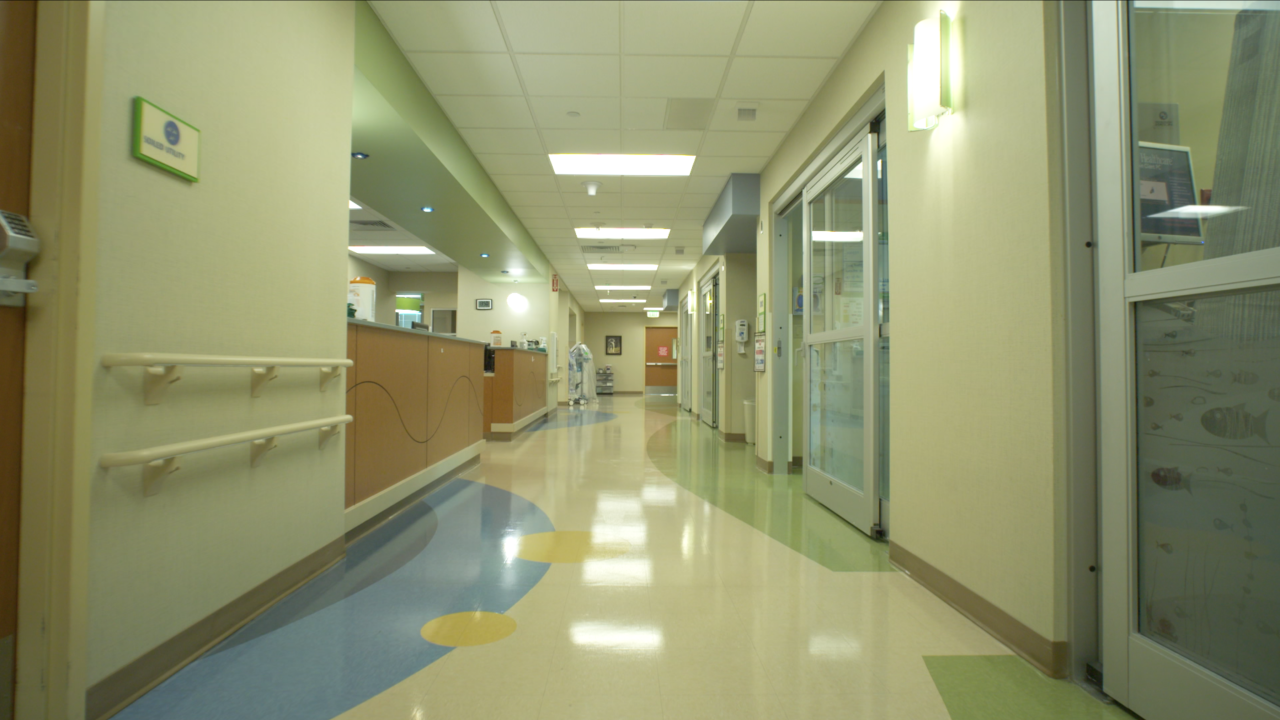computer: (1128, 140, 1206, 242)
counter: (345, 311, 487, 521), (491, 343, 548, 431)
dispenser: (736, 322, 749, 358)
door_handle: (1, 214, 44, 312)
hallway_assist_bar: (100, 409, 354, 493), (103, 342, 356, 406)
push_latch: (647, 359, 679, 371)
waste_bin: (735, 397, 760, 447)
